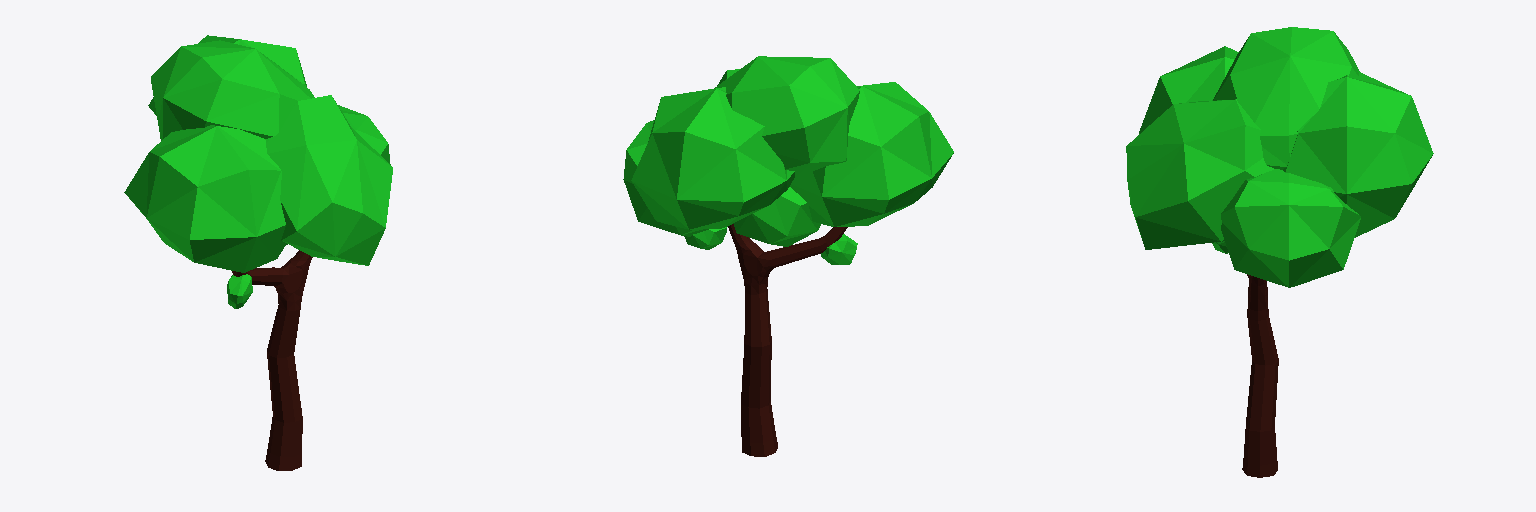
The model's file is tree2.obj.
3 views of the same model, side by side, from view 1: azimuth 30°, elevation 25°; view 2: azimuth 150°, elevation 25°; view 3: azimuth 270°, elevation 25° (orthographic).
Visible parts, largest first — view 1: Vert; view 2: Vert; view 3: Vert.
Boxes of the visible parts, <box> form: Vert: <box>124,35,392,470</box>; Vert: <box>623,56,953,456</box>; Vert: <box>1126,27,1433,477</box>.
Size of the model in its own units: 5.81 by 8.34 by 5.65.